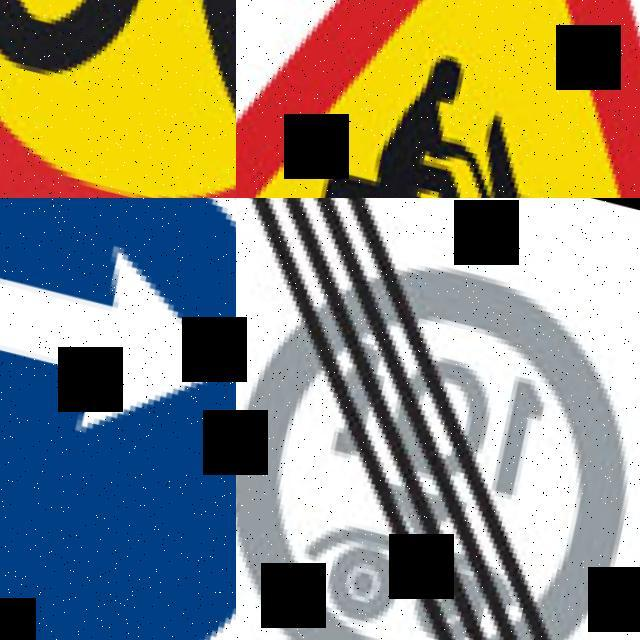111: (236, 198, 640, 640)
Turn left ahead: (0, 198, 236, 640)
snowmobiles: (236, 0, 640, 198)
speed limit-90: (0, 0, 236, 198)
